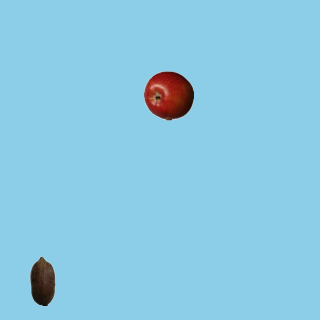Apple Braeburn: (143, 70, 193, 120)
Nut Pecan: (17, 255, 67, 305)
